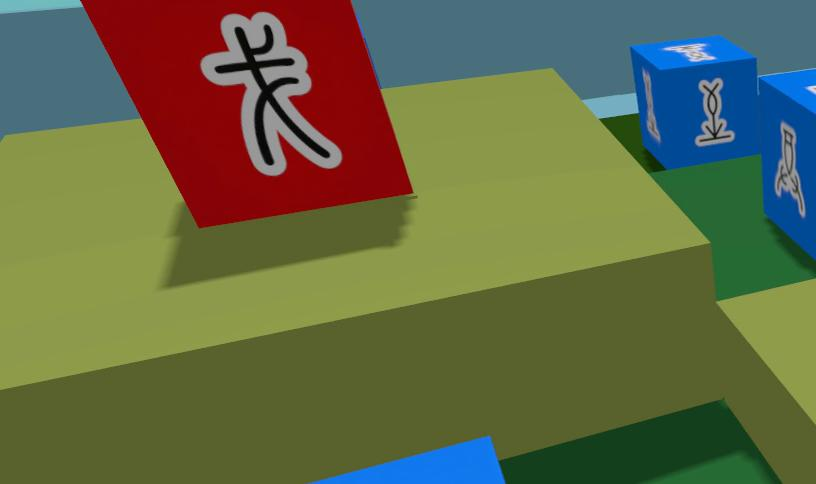KFS_FAKE: (82, 0, 412, 226), (200, 12, 341, 176)
KFS_REAL: (630, 36, 758, 167), (758, 69, 815, 260), (310, 438, 505, 483), (773, 122, 805, 216), (695, 78, 734, 145), (643, 71, 660, 142), (663, 42, 715, 61), (807, 85, 815, 94)
